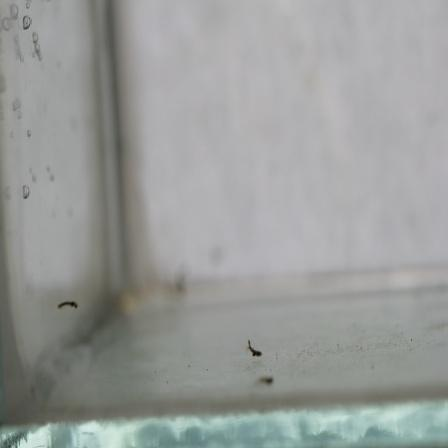Jentik-Nyamuk: (244, 339, 265, 360), (54, 297, 81, 312)
